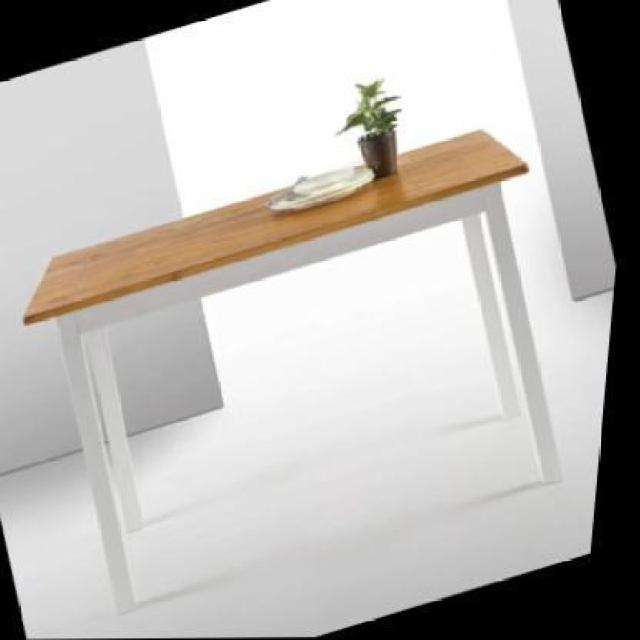tables: (22, 126, 563, 614)
